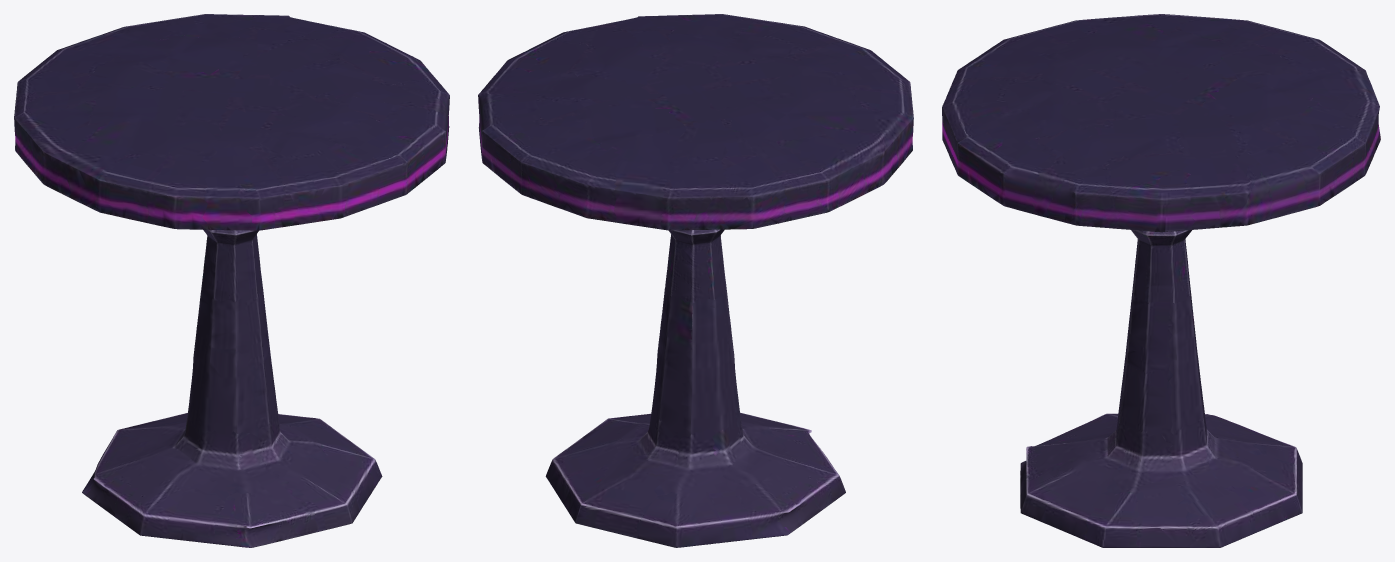
Rendered from mesinhabalada_otimizado.glb.
3 views of the same model, side by side, from view 1: azimuth 30°, elevation 25°; view 2: azimuth 150°, elevation 25°; view 3: azimuth 270°, elevation 25° (orthographic).
Visible parts, largest first — view 1: Mesh_0; view 2: Mesh_0; view 3: Mesh_0.
Part boxes in pixels (x1,y1,x2,y2): Mesh_0: (14, 14, 449, 547); Mesh_0: (478, 14, 913, 547); Mesh_0: (942, 14, 1380, 547).
Bounding box in the file's own units: 1.9 × 1.89 × 1.9.
Materials: 1 (1 with a texture image).
